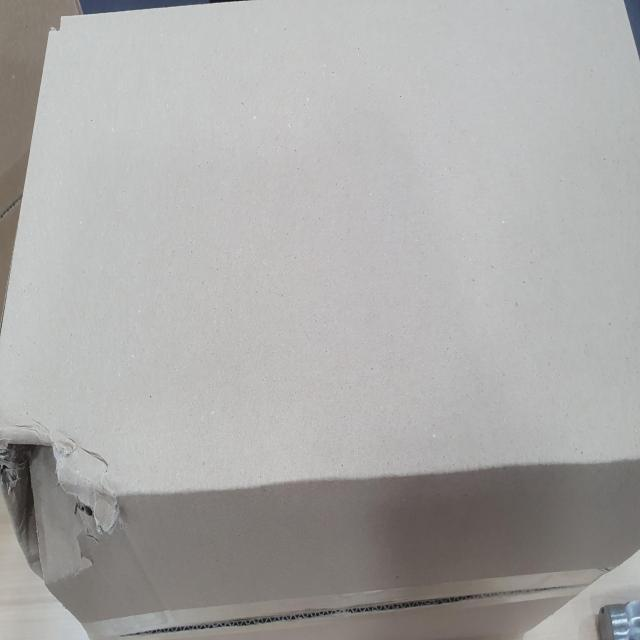damaged: (31, 0, 126, 190)
